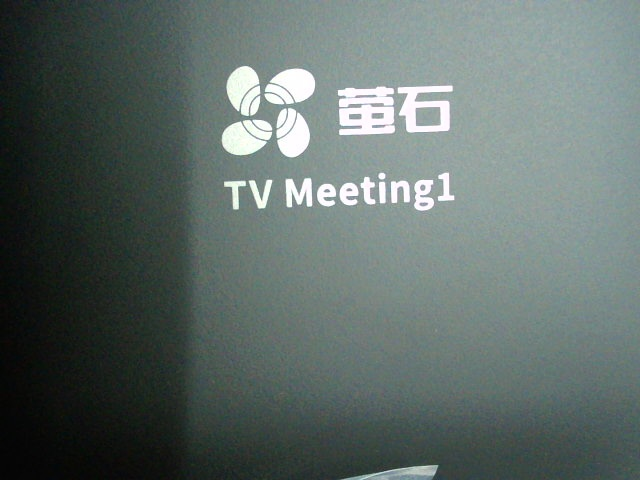BA_Yingshi: (215, 61, 462, 222)
